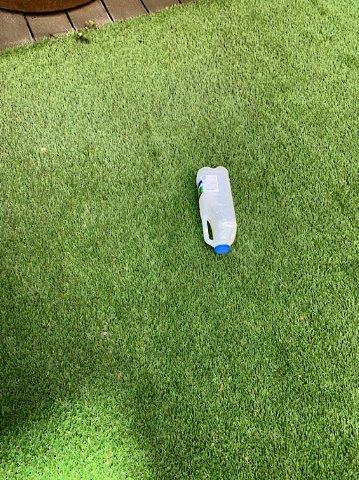botolplastik: (197, 167, 236, 253)
